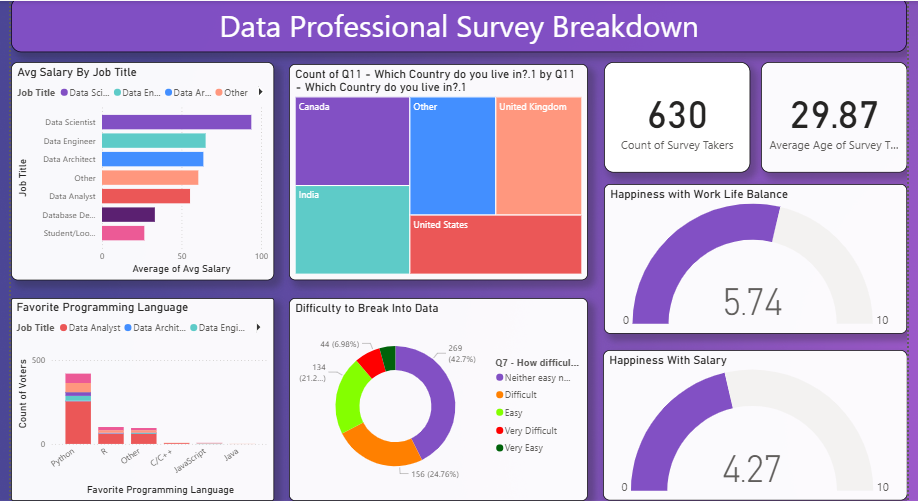

This screenshot's page, from the dashboard's own definition file:
{"tool":"powerbi","page":{"name":"Page 1","canvas":[1280,720],"ordinal":0},"visuals":[{"type":"textbox","box":[0,0,1280.5,79],"z":0},{"type":"card","fields":{"Values":["CountNonNull(Data Professional Survey.Unique ID)"]},"box":[847,92.6,209.1,158.3],"z":1000},{"type":"card","fields":{"Values":["Avg(Data Professional Survey.Q10 - Current Age)"]},"box":[1071,92.6,209.1,158.3],"z":2000},{"type":"barChart","title":"Avg Salary By Job Title","fields":{"Category":["Data Professional Survey.Q1 - Which Title Best Fits your Current Role?.1"],"Y":["Avg(Data Professional Survey.Avg Salary)"],"Series":["Data Professional Survey.Q1 - Which Title Best Fits your Current Role?.1"]},"box":[0,92.6,376.4,312.2],"z":3000},{"type":"columnChart","title":"Favorite Programming Language","fields":{"Category":["Data Professional Survey.Q5 - Favorite Programming Language.1"],"Y":["CountNonNull(Data Professional Survey.Unique ID)"],"Series":["Data Professional Survey.Q1 - Which Title Best Fits your Current Role?.1"]},"box":[0,430.2,376.4,289.8],"z":4000},{"type":"treemap","fields":{"Group":["Data Professional Survey.Q11 - Which Country do you live in?.1"],"Values":["Count(Data Professional Survey.Q11 - Which Country do you live in?.1)"]},"box":[397.3,95.6,427.2,309.2],"z":5000},{"type":"gauge","title":"Happiness with Work Life Balance","fields":{"Y":["Avg(Data Professional Survey.Q6 - How Happy are you in your Current Position with the following? (Work/Life Balance))"],"MinValue":["Min(Data Professional Survey.Q6 - How Happy are you in your Current Position with the following? (Work/Life Balance))1"],"MaxValue":["Max(Data Professional Survey.Q6 - How Happy are you in your Current Position with the following? (Work/Life Balance))2"]},"box":[847,267.4,433.2,213.6],"z":5001},{"type":"gauge","title":"Happiness With Salary","fields":{"Y":["Avg(Data Professional Survey.Q6 - How Happy are you in your Current Position with the following? (Salary))"],"MinValue":["Min(Data Professional Survey.Q6 - How Happy are you in your Current Position with the following? (Salary))"],"MaxValue":["Max(Data Professional Survey.Q6 - How Happy are you in your Current Position with the following? (Salary))"]},"box":[845.5,504.9,434.7,215.1],"z":5002},{"type":"donutChart","title":"Difficulty to Break Into Data","fields":{"Category":["Data Professional Survey.Q7 - How difficult was it for you to break into Data?"],"Y":["CountNonNull(Data Professional Survey.Q7 - How difficult was it for you to break into Data?)"]},"box":[397,430,427,290],"z":5003}]}

Visuals, with their boxes in screenshot pixels (x1, y1, x2, y2):
textbox: detection(17, 0, 897, 54)
card - CountNonNull(Data Professional Survey.Unique ID): detection(599, 64, 743, 173)
card - Avg(Data Professional Survey.Q10 - Current Age): detection(753, 64, 897, 173)
"Avg Salary By Job Title" barChart: detection(17, 64, 276, 278)
"Favorite Programming Language" columnChart: detection(17, 296, 276, 495)
treemap - Data Professional Survey.Q11 - Which Country do you live in?.1 x Count(Data Professional Survey.Q11 - Which Country do you live in?.1): detection(290, 66, 584, 278)
"Happiness with Work Life Balance" gauge: detection(599, 184, 897, 331)
"Happiness With Salary" gauge: detection(598, 347, 897, 495)
"Difficulty to Break Into Data" donutChart: detection(290, 296, 583, 495)
